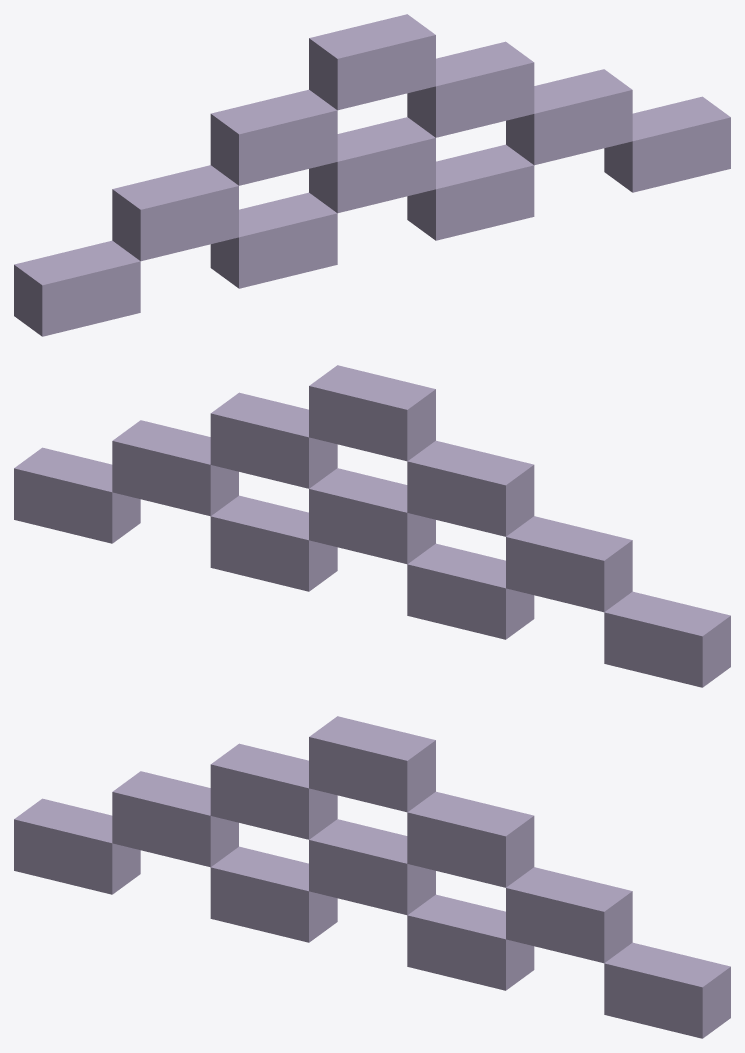
Rendered from Coins-Grey.vox.obj.
3 views of the same model, one above another, from view 1: azimuth 30°, elevation 25°; view 2: azimuth 150°, elevation 25°; view 3: azimuth 330°, elevation 25° (orthographic).
Size of the model in its own units: 1.4 by 0.4 by 0.1.
Materials: 1 (1 with a texture image).
